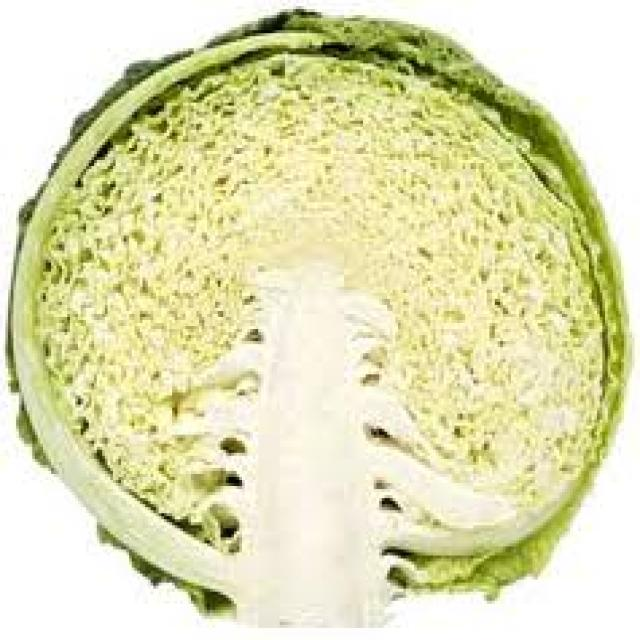cabbage: (8, 3, 637, 634)
